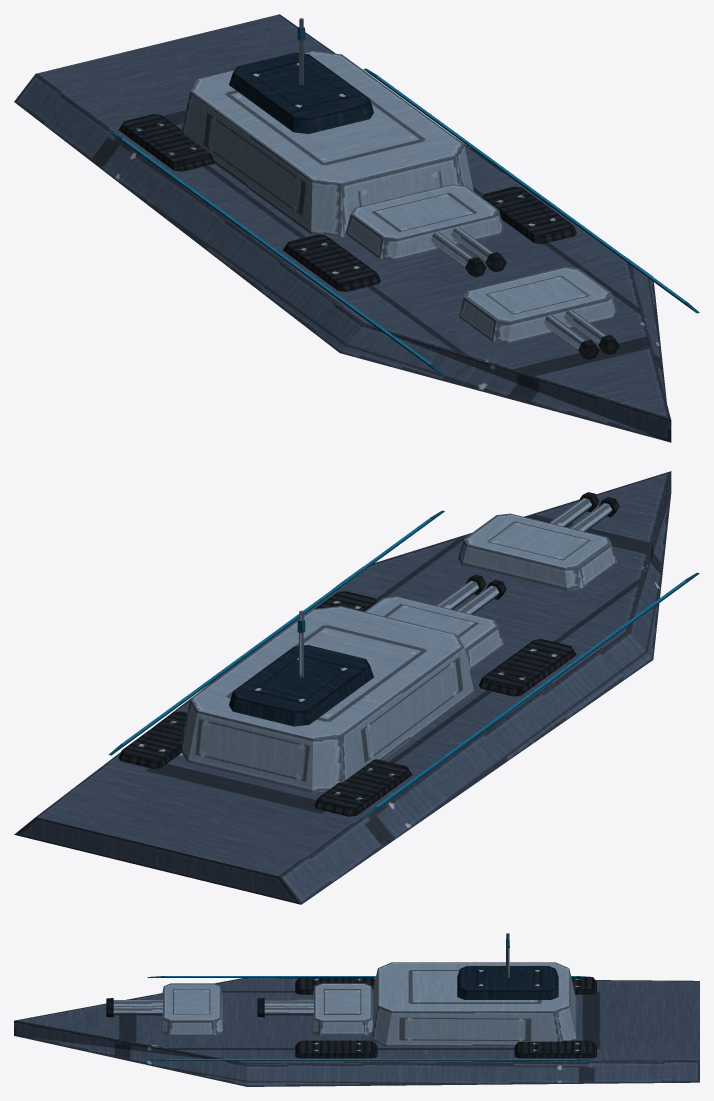
File: unit-destroyer.fbx
3 renders of one model, top to bottom at view 1: azimuth 30°, elevation 25°; view 2: azimuth 150°, elevation 25°; view 3: azimuth 270°, elevation 25°, orthographic. The views are drawn at different scales.
Visible parts, largest first — view 1: unit-destroyer; view 2: unit-destroyer; view 3: unit-destroyer.
Boxes of the visible parts, box(x1,y1,x2,y2) form: unit-destroyer: box(14, 14, 699, 442); unit-destroyer: box(14, 471, 699, 904); unit-destroyer: box(14, 933, 699, 1086).
Size of the model in its own units: 1008 by 470 by 2860.
1 material, 1 textured.
